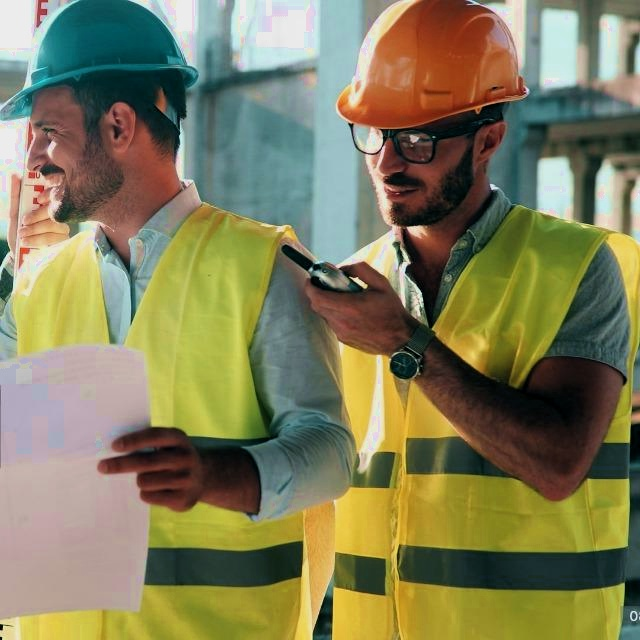Con_Chaleco: (327, 208, 637, 640), (11, 210, 300, 640)
